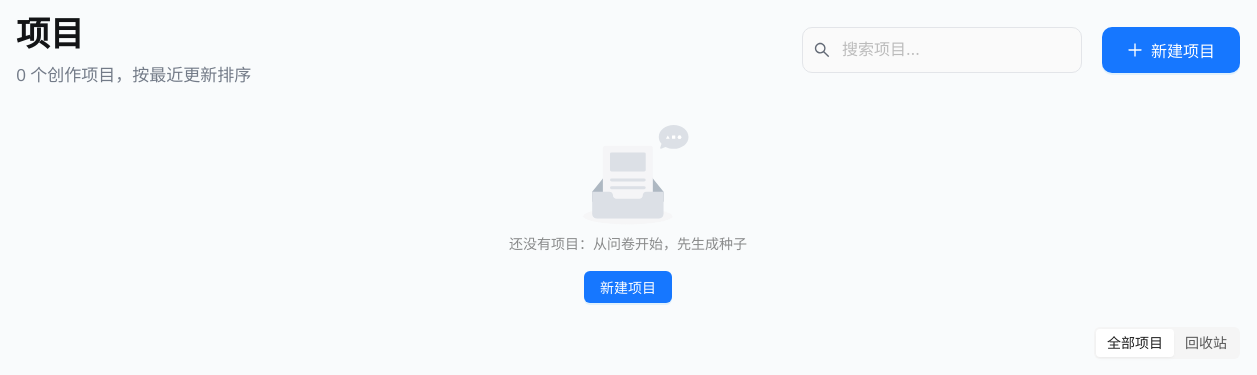
Test: ProjectListPage › 回收站空状态给出说明
Check: the text "还没有项目：从问卷开始，先生成种子" is shown, box left=509, top=235, right=747, bottom=252
Click the radio button "回收站". click: (1206, 342)
box: left=1185, top=334, right=1227, bottom=351
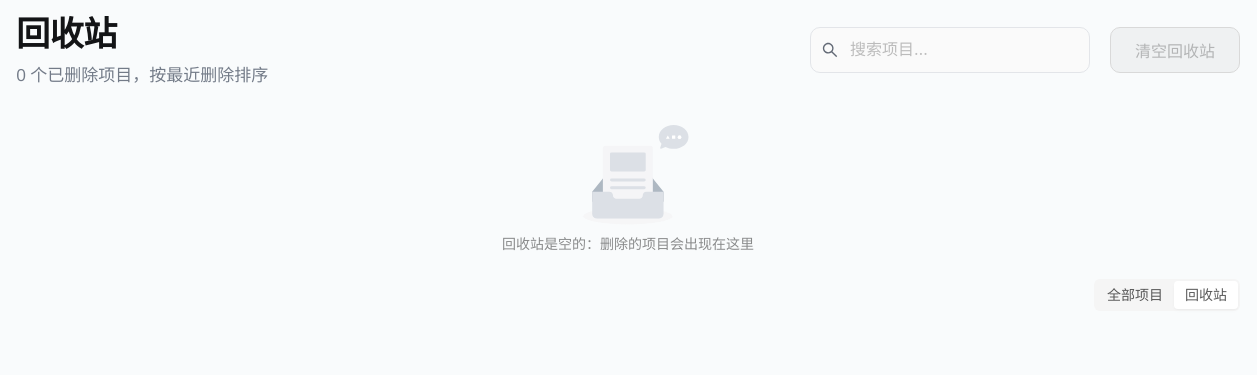
Check: the text "回收站是空的：删除的项目会出现在这里" is shown, box left=502, top=235, right=754, bottom=252
